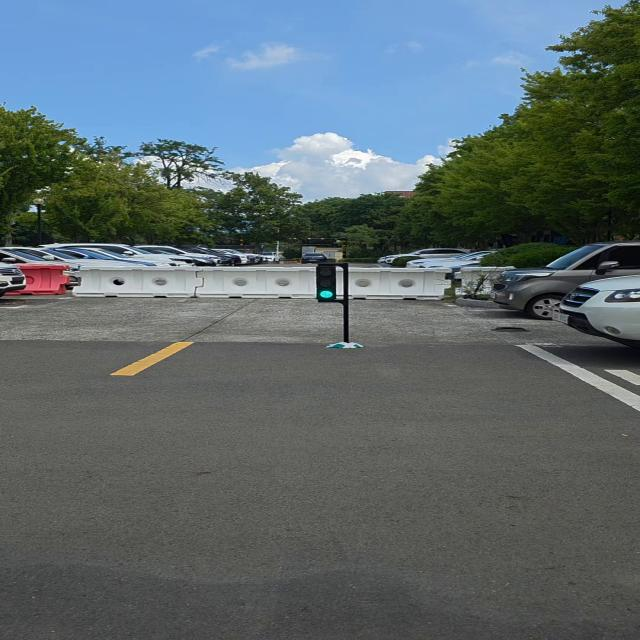green: (312, 264, 340, 302)
